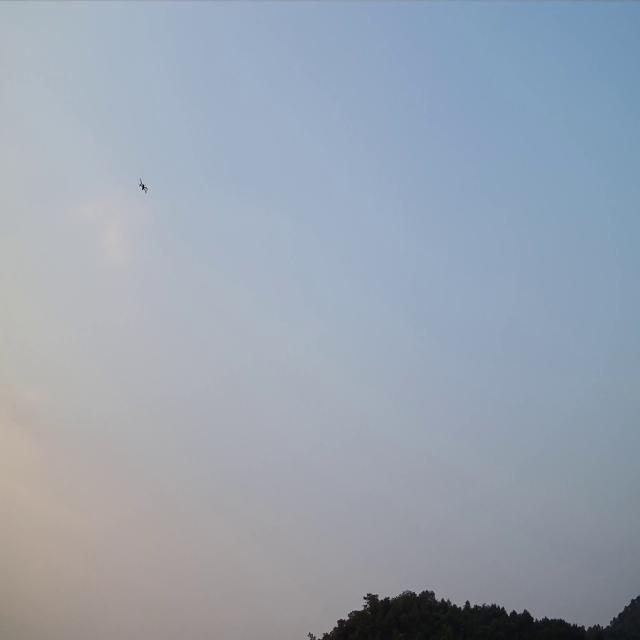UAV: (139, 178, 148, 194)
